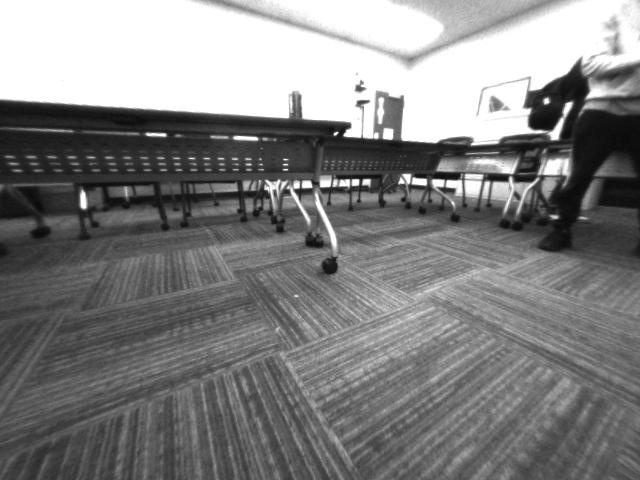can: (285, 87, 305, 118)
